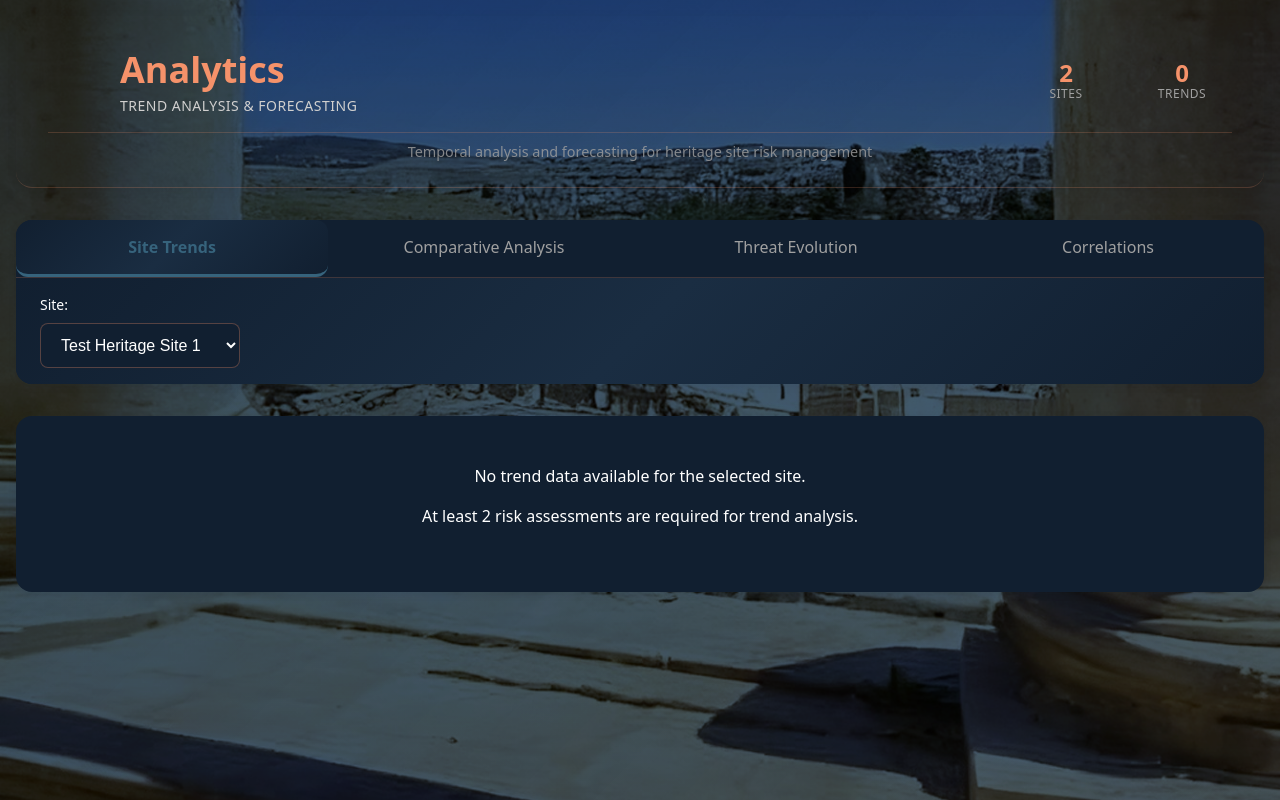
TrendDashboard › handles site selection change
Step 1. Select "Test Heritage Site 2" in the dropdown labelled "Site:" → (140, 345), box [40, 323, 240, 368]
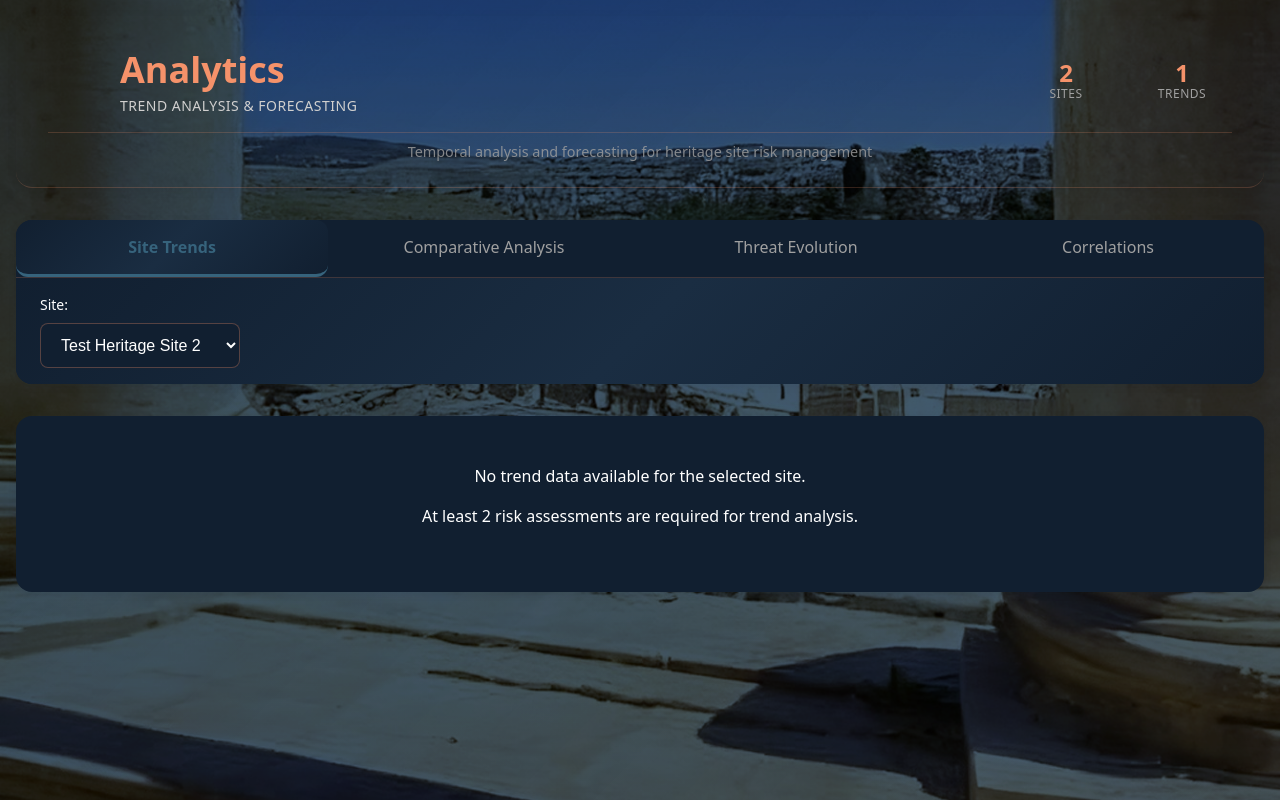
Expected: the dropdown labelled "Site:" shows "Test Heritage Site 2", [40, 323, 240, 368]
